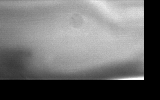cell: (68, 13, 86, 30)
